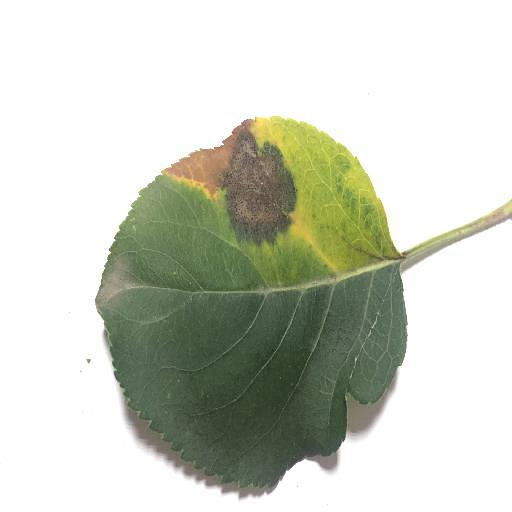Brown_Spot: (156, 133, 293, 252)
